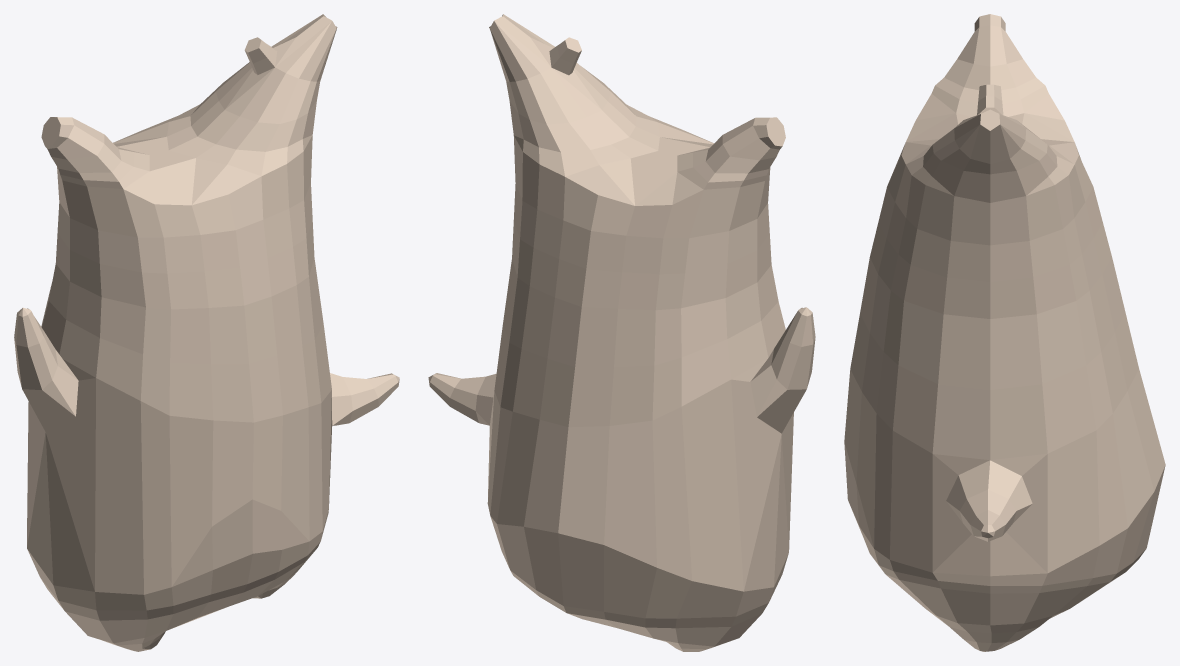
Rendered from frame_0065.obj.
The picture shows the model from 3 angles, left to right: view 1: azimuth 30°, elevation 25°; view 2: azimuth 150°, elevation 25°; view 3: azimuth 270°, elevation 25°; orthographic projection.
Visible parts, largest first — view 1: korok; view 2: korok; view 3: korok.
Boxes of the visible parts, bbox=[...] form: korok: bbox=[14, 14, 399, 651]; korok: bbox=[428, 14, 815, 651]; korok: bbox=[844, 14, 1165, 651].
Bounding box in the file's own units: 1.5 × 2.19 × 1.07.
